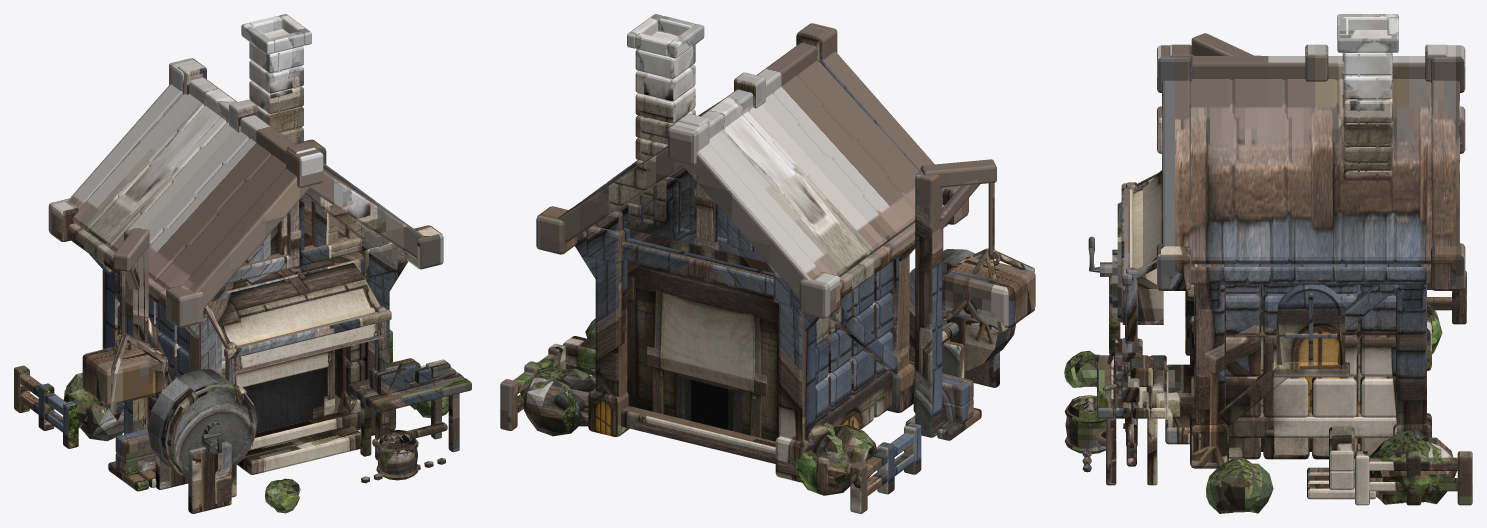
The model's file is stone_cutter.glb.
3 renders of one model, left to right at view 1: azimuth 30°, elevation 25°; view 2: azimuth 150°, elevation 25°; view 3: azimuth 270°, elevation 25°, orthographic. The views are drawn at different scales.
Parts seen in each view (by area): view 1: Linen work canopy, Circular grindstone, Workshop shadow opening, Carved roof verge, Dressed limestone.004, Workshop recessed floor, Carved roof verge.002, Grindstone trestle, Carved roof verge.001, Hoist upright, Gable tie beam, Ridge timber (+65 smaller); view 2: Cottage walls, Hoist upright, Carved roof verge.001, Dressed limestone.004, Corner upright.003, Corner upright.001, Wall cross beam.001, Carved roof verge.003, Wall cross beam.003, Circular grindstone, Ridge timber, Carved roof verge (+62 smaller); view 3: Roof eave.001, Carved roof verge.002, Carved roof verge.003, Corner upright.003, Corner upright.002, Ridge timber, Side wall lower tie.001, Warm arched window, Soft edged blue roof tile.038, Soft edged blue roof tile.037, Soft edged blue roof tile.039, Soft edged blue roof tile.036 (+82 smaller).
Part boxes in pixels (box(x1,y1,x2,y2)): Linen work canopy: box(207, 263, 384, 373); Circular grindstone: box(147, 369, 257, 477); Workshop shadow opening: box(236, 350, 334, 432); Carved roof verge: box(183, 168, 310, 308); Dressed limestone.004: box(82, 340, 167, 405); Workshop recessed floor: box(237, 425, 360, 474); Carved roof verge.002: box(309, 170, 423, 258); Grindstone trestle: box(188, 441, 231, 513); Carved roof verge.001: box(68, 84, 183, 208); Hoist upright: box(124, 228, 148, 434); Gable tie beam: box(226, 235, 388, 284); Ridge timber: box(189, 77, 295, 163); Cottage walls: box(627, 229, 778, 441); Hoist upright: box(915, 171, 942, 437); Carved roof verge.001: box(683, 143, 821, 298); Dressed limestone.004: box(942, 256, 1035, 328); Corner upright.003: box(595, 210, 627, 396); Corner upright.001: box(779, 303, 815, 440); Wall cross beam.001: box(621, 405, 775, 463); Carved roof verge.003: box(558, 146, 683, 242); Wall cross beam.003: box(622, 238, 774, 295); Circular grindstone: box(909, 249, 1015, 370); Ridge timber: box(674, 43, 816, 151); Carved roof verge: box(821, 51, 934, 171); Roof eave.001: box(1191, 263, 1430, 284); Carved roof verge.002: box(1162, 80, 1190, 246); Carved roof verge.003: box(1431, 80, 1459, 246); Corner upright.003: box(1396, 284, 1426, 424); Corner upright.002: box(1195, 284, 1225, 424); Ridge timber: box(1192, 56, 1425, 80); Side wall lower tie.001: box(1225, 413, 1396, 437); Warm arched window: box(1283, 291, 1338, 361); Soft edged blue roof tile.038: box(1288, 206, 1341, 264); Soft edged blue roof tile.037: box(1236, 206, 1288, 264); Soft edged blue roof tile.039: box(1341, 206, 1393, 264); Soft edged blue roof tile.036: box(1190, 206, 1236, 264).
Bounding box in the file's own units: 4.49 × 4.2 × 3.58.
Materials: 5 (5 with a texture image).
